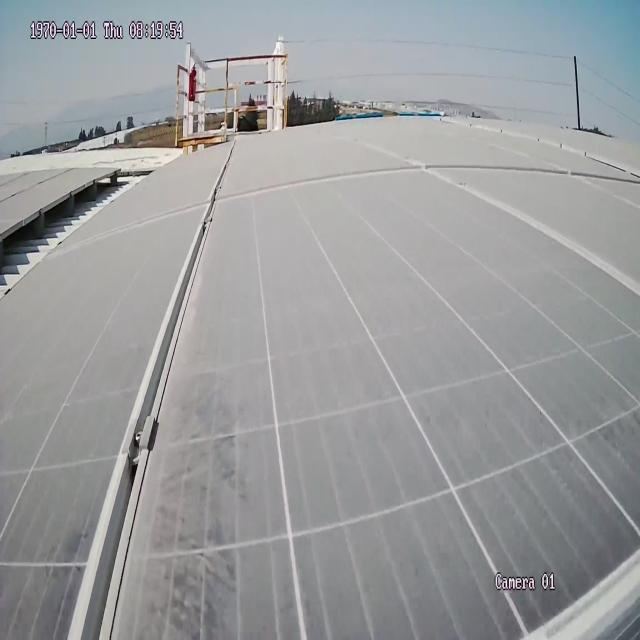interior panel: (42, 125, 640, 640), (488, 527, 640, 640)
outher panel: (0, 166, 163, 315)
